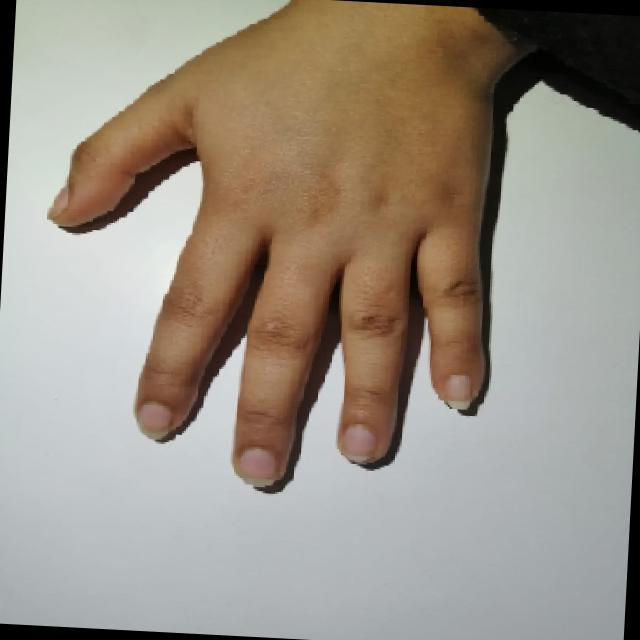Nail: (238, 448, 277, 487), (137, 401, 172, 440), (342, 424, 376, 463), (445, 375, 471, 410), (48, 185, 69, 220)
